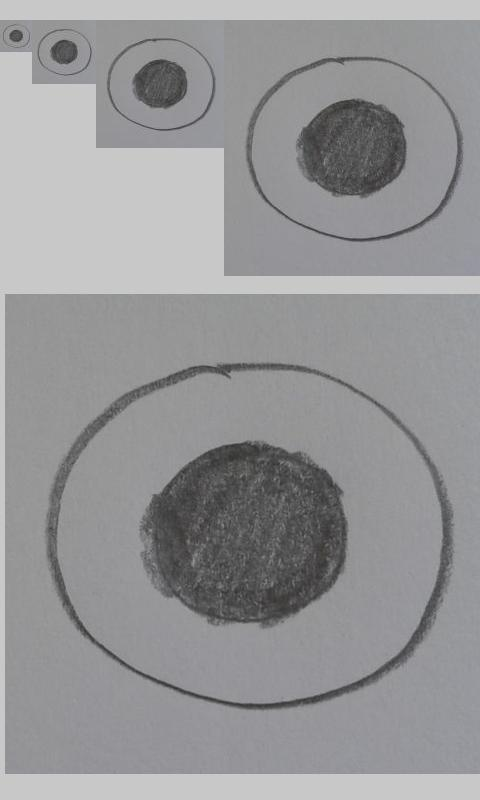radio_button: (43, 361, 452, 711), (242, 55, 464, 246), (106, 37, 216, 132), (37, 28, 92, 76), (2, 23, 31, 48)
